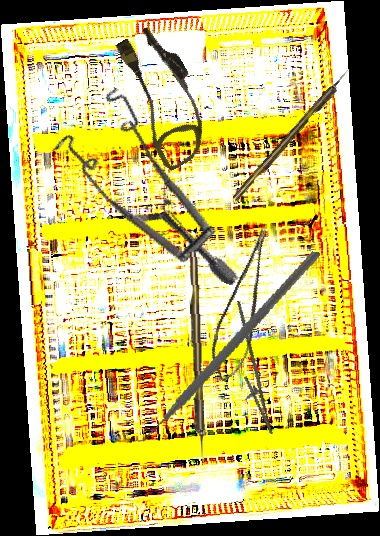Cannula: (100, 20, 227, 173)
Chopper: (120, 222, 321, 470)
Hook Surgical: (231, 67, 354, 202), (188, 251, 206, 463)
Micro Scissor: (198, 226, 294, 387)
Needle Holder: (211, 300, 289, 439)
Speculum: (28, 74, 287, 287)
